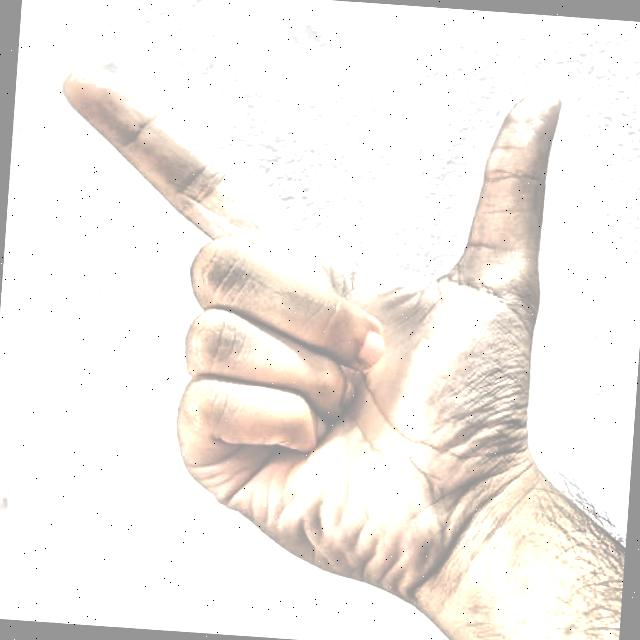ChandraBindu: (25, 0, 586, 624)
